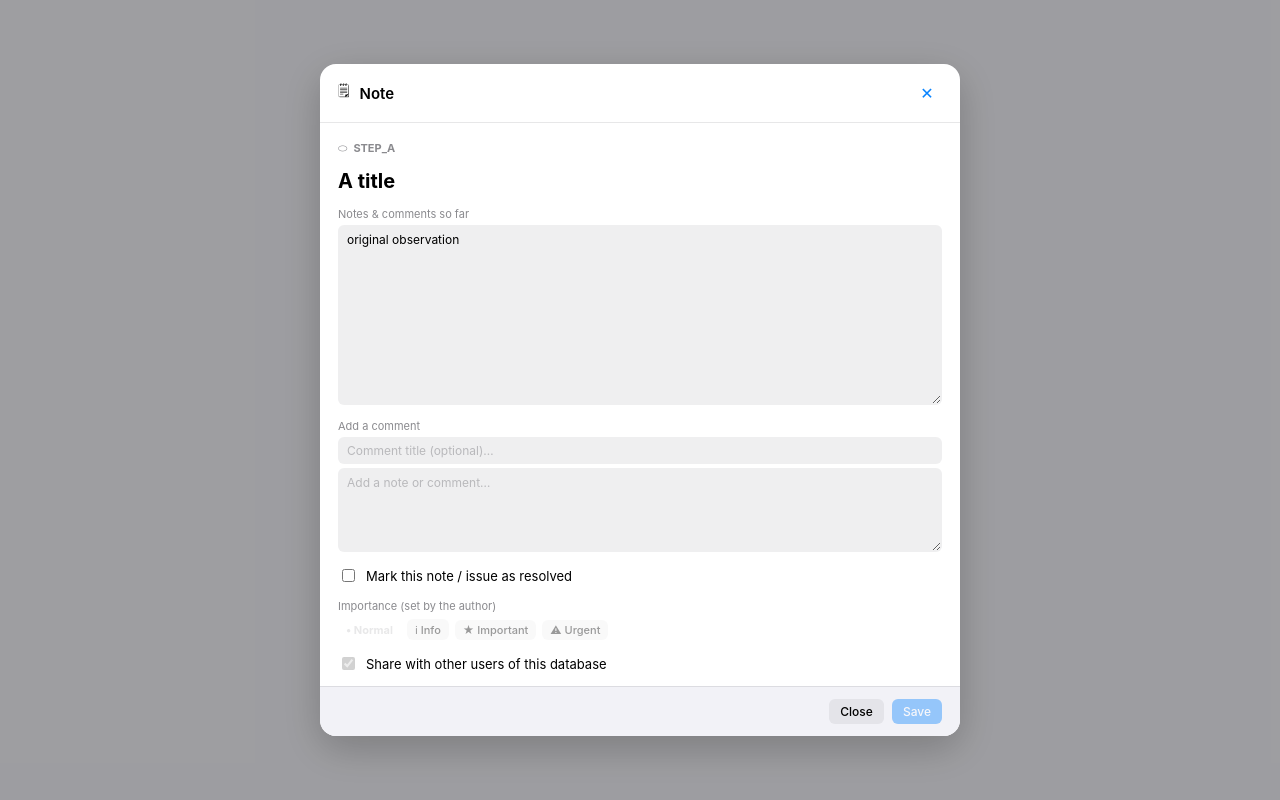
Test: NoteEditor — non-author › can toggle resolved even without a comment
The width and height of the screenshot is (1280, 800).
Expected: the button "Save" is disabled, [892, 699, 942, 724]
Click the checkbox labelled "Mark this note / issue as resolved". click: (348, 576)
box: [342, 569, 355, 582]
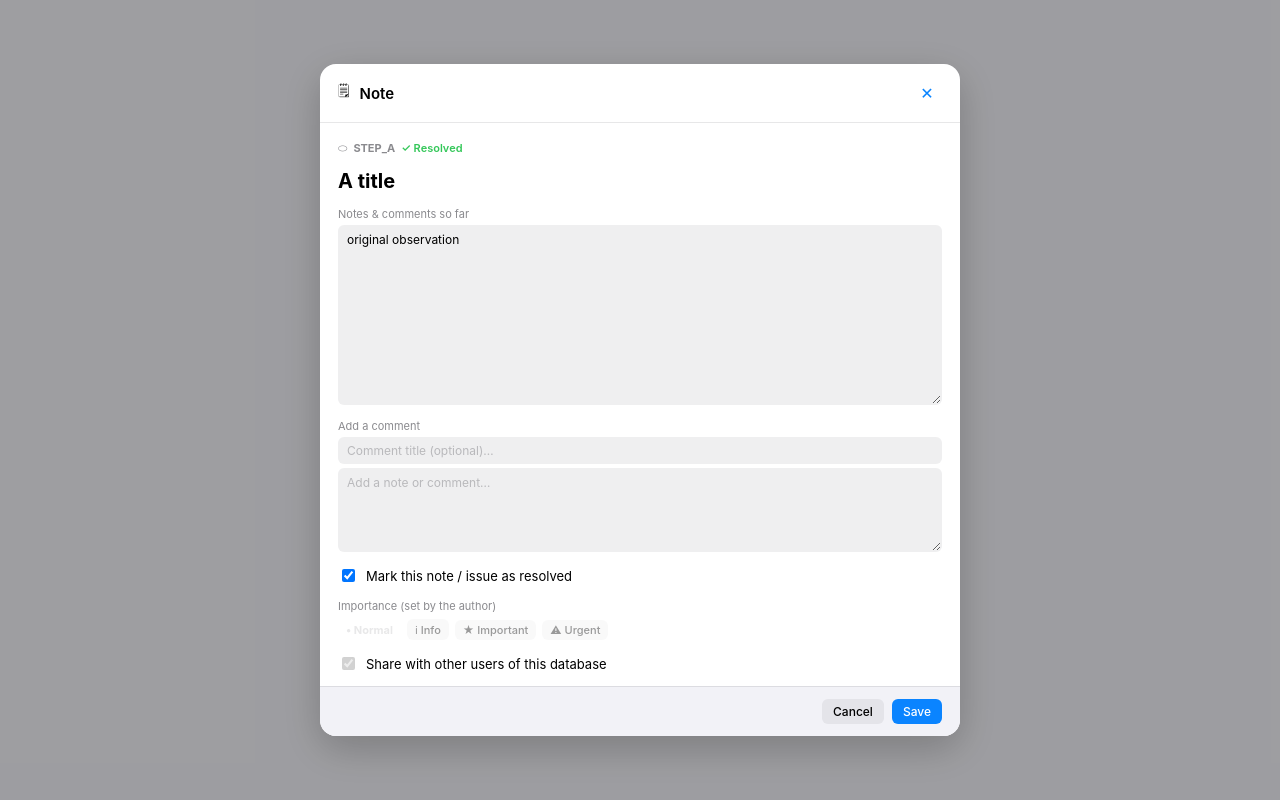
Expected: the button "Save" is enabled, [892, 699, 942, 724]
